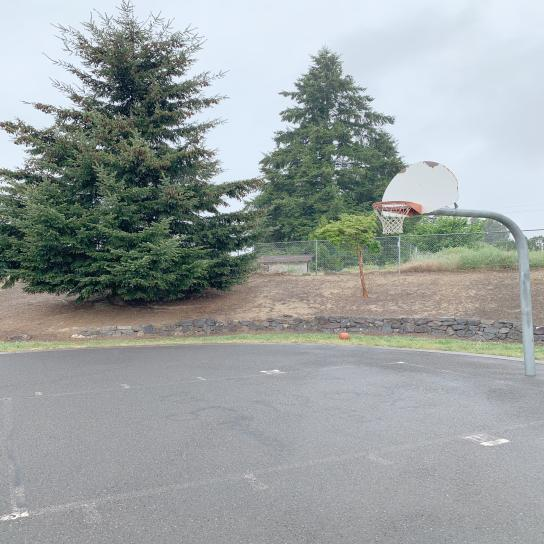basketball-hoop: (371, 200, 415, 234)
